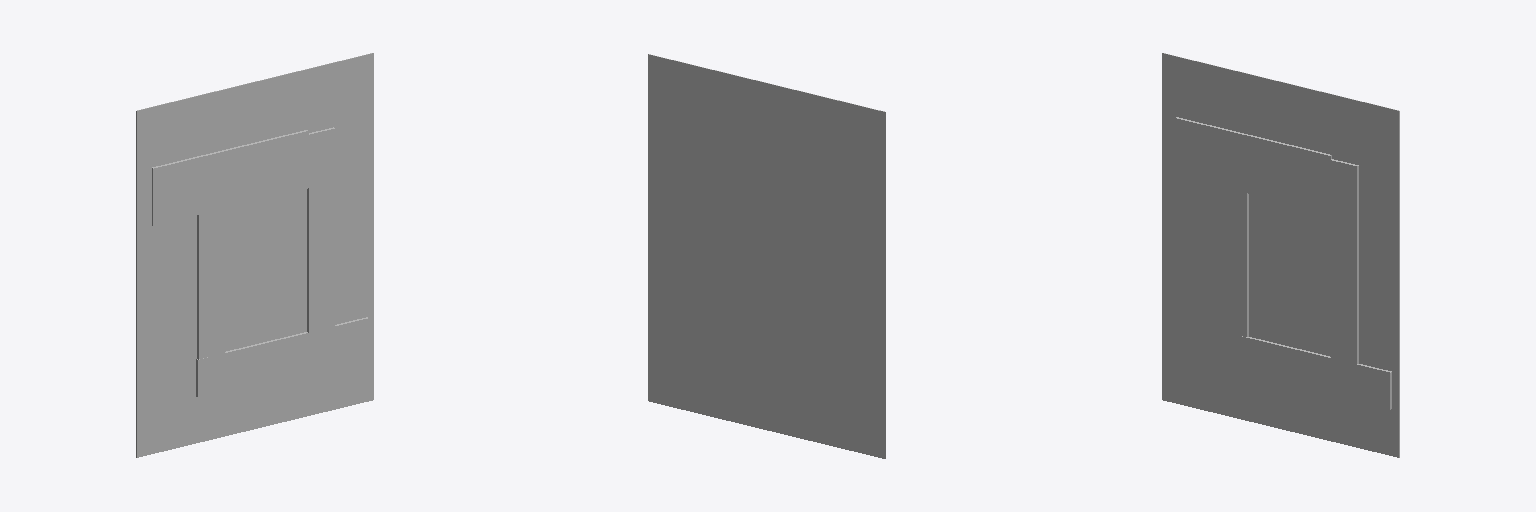
Rendered from plan.obj.
3 views of the same model, side by side, from view 1: azimuth 30°, elevation 25°; view 2: azimuth 150°, elevation 25°; view 3: azimuth 330°, elevation 25° (orthographic).
Visible parts, largest first — view 1: Box01, Box02, Box05, Box03, Box06; view 2: Box01; view 3: Box01, Box02, Box05, Box03, Box06.
Boxes of the visible parts, <box> form: Box01: <box>136,53,373,457</box>; Box02: <box>152,130,308,225</box>; Box05: <box>196,317,368,396</box>; Box03: <box>307,127,334,337</box>; Box06: <box>197,204,224,359</box>; Box01: <box>648,54,885,458</box>; Box01: <box>1162,53,1399,457</box>; Box02: <box>1175,117,1331,213</box>; Box05: <box>1220,331,1391,409</box>; Box03: <box>1331,159,1358,368</box>; Box06: <box>1220,187,1248,336</box>.
Size of the model in its own units: 168 by 234 by 2.73.